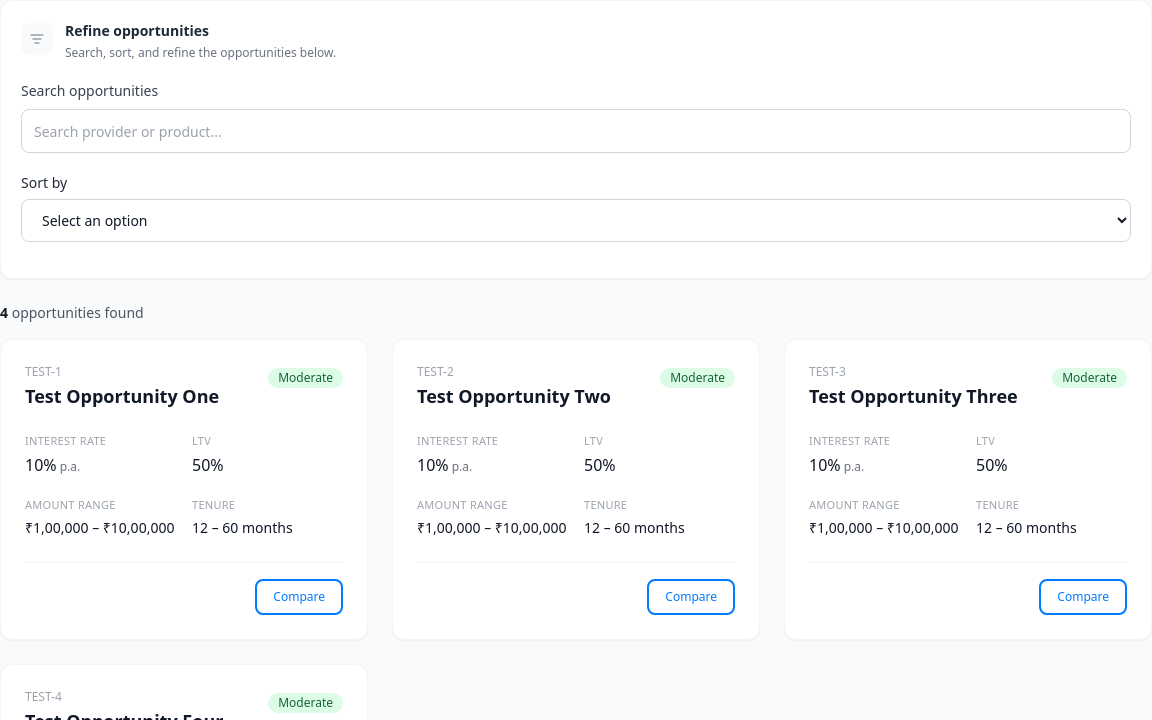
Test case: Opportunity comparison limit › prevents selecting more than three opportunities
Click the button with aria-label "add test opportunity one to comparison".
click(299, 597)  # box [255,579,343,615]
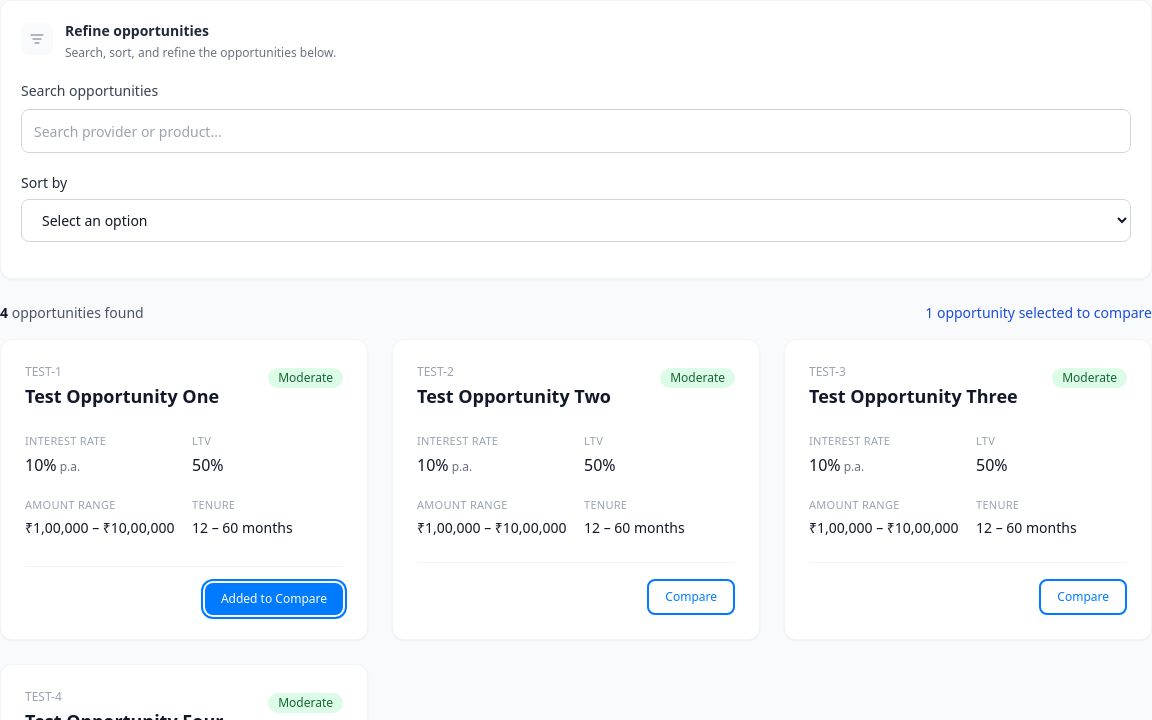
Click the button with aria-label "add test opportunity two to comparison".
click(691, 597)  # box [647,579,735,615]
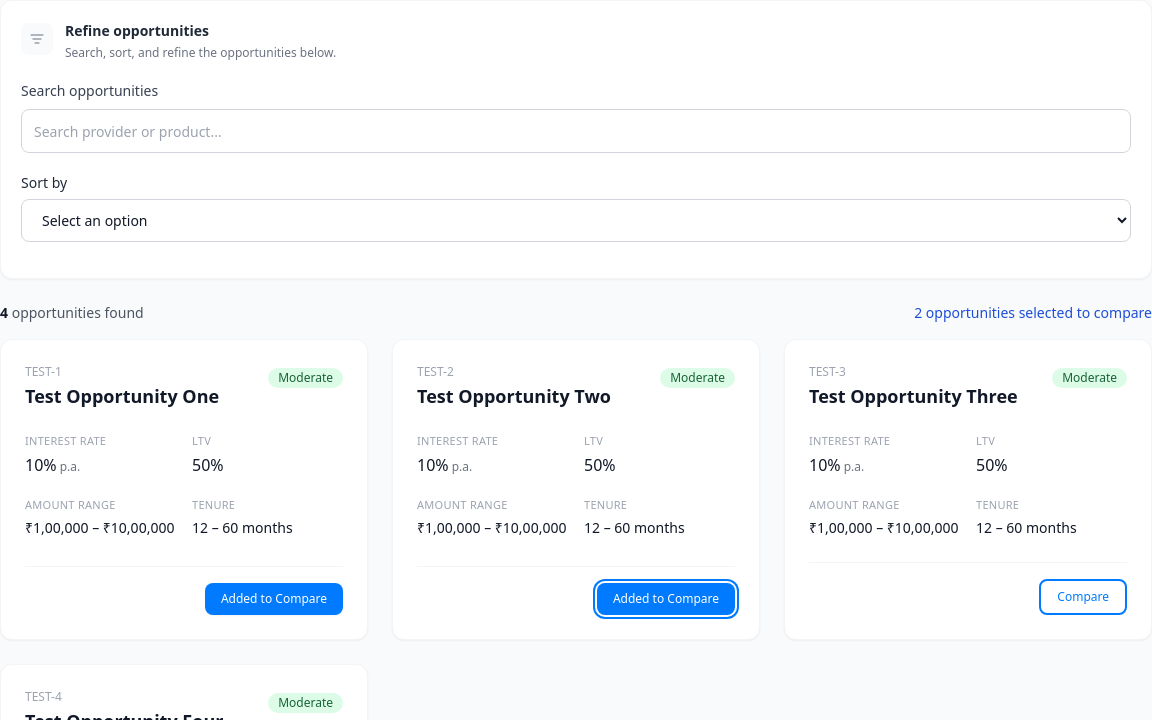
Click the button with aria-label "add test opportunity three to comparison".
click(1083, 597)  # box [1039,579,1127,615]
(page scrolled)
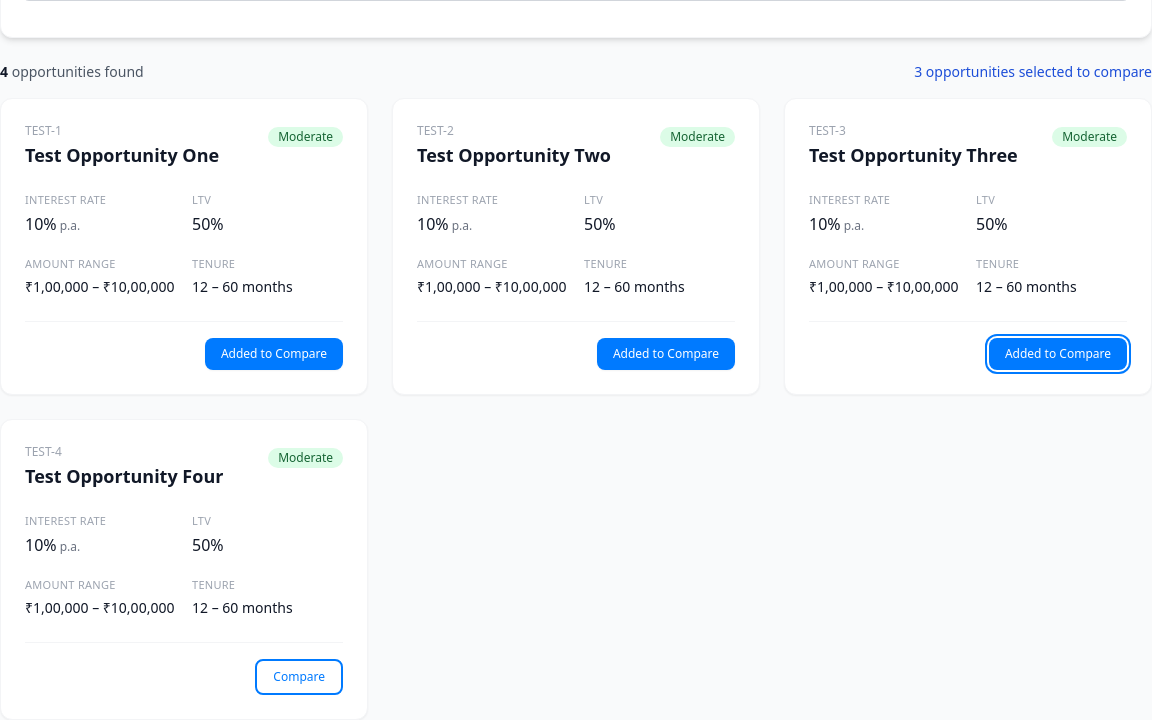
Click the button with aria-label "add test opportunity four to comparison".
click(299, 676)  # box [255,658,343,694]
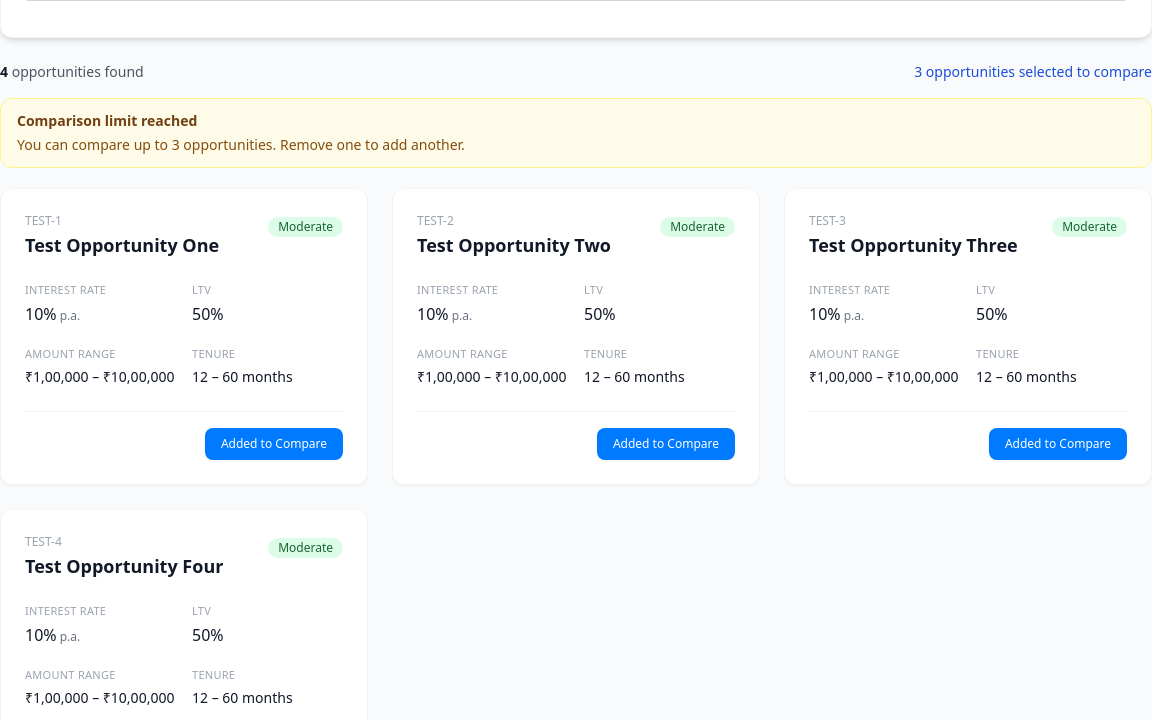
Now the text "You can compare up to 3 opportunities. Remove one to add another." is shown, box [17,135,465,154]
